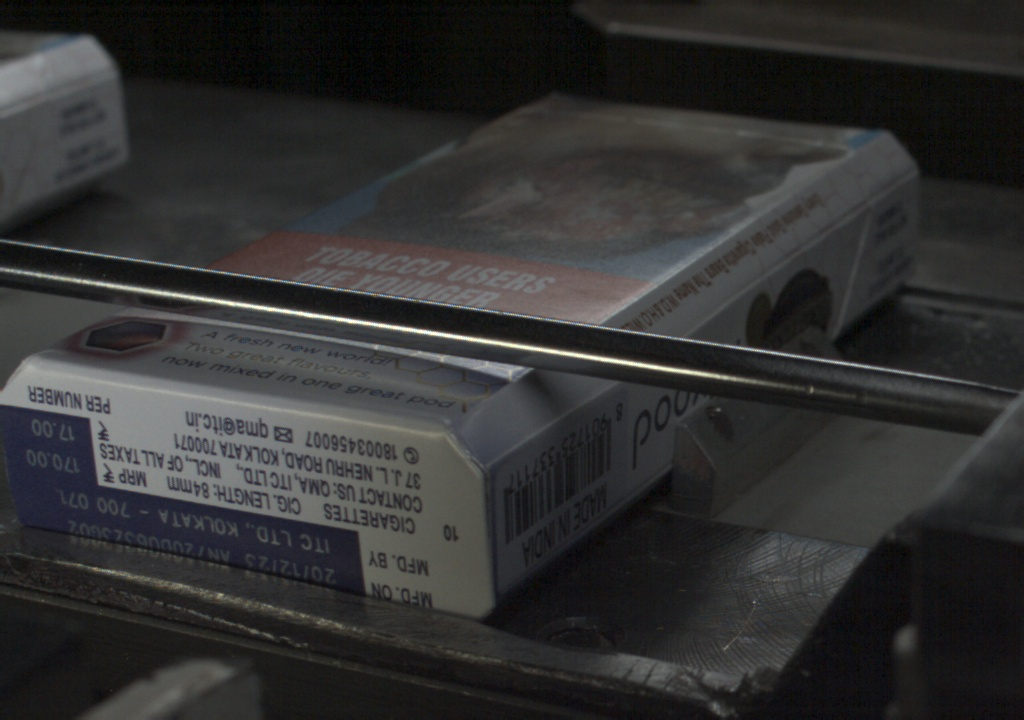g_bottom: (1, 369, 478, 615)
g_label: (7, 486, 364, 600)
g_lmiter: (772, 203, 863, 274), (674, 273, 769, 340), (484, 423, 549, 469), (549, 381, 608, 424)
g_miter: (866, 166, 914, 200)
price: (4, 412, 97, 483)
